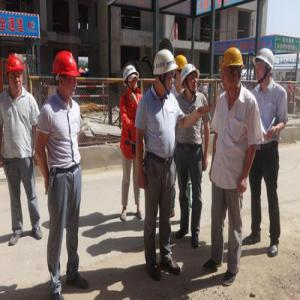red: (53, 51, 79, 98), (6, 54, 24, 94)
white: (153, 51, 177, 95), (255, 48, 276, 86), (181, 64, 199, 96), (125, 65, 140, 92)
yellow: (220, 48, 245, 90), (175, 56, 188, 81)
